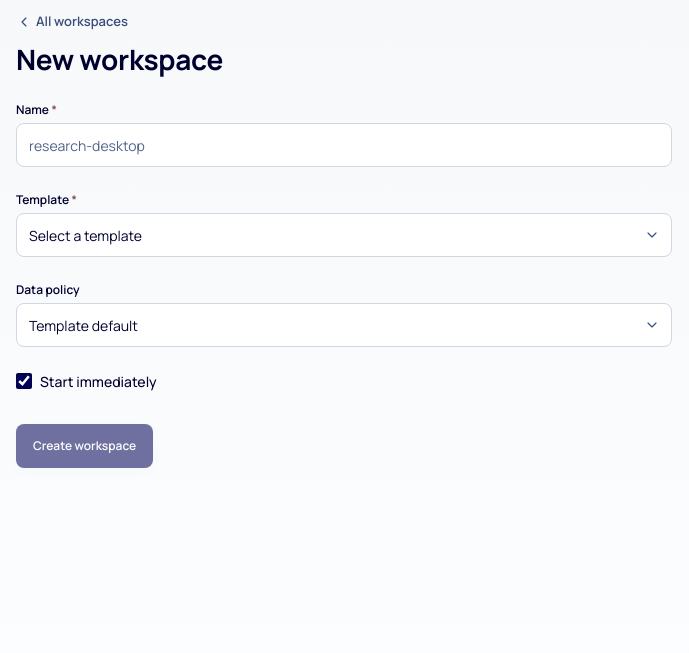
Test: CreateWorkspacePage › create: per-user limit refusal shows the limit copy with params
Type "my-box" into the field labelled "Name *" at (344, 145), box [16,123,672,167]
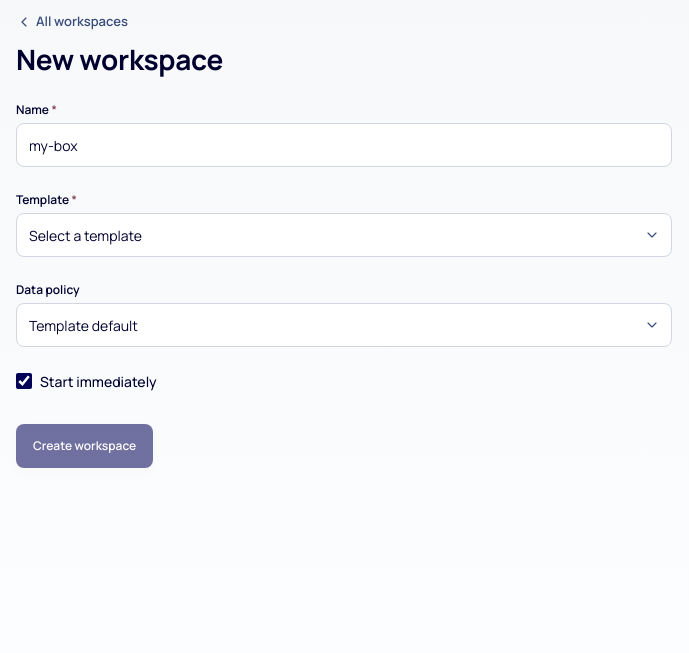
Select "linux-firefox-desktop (rev 7, Linux container)" in the dropdown labelled "Template *" at (344, 235), box [16,213,672,257]
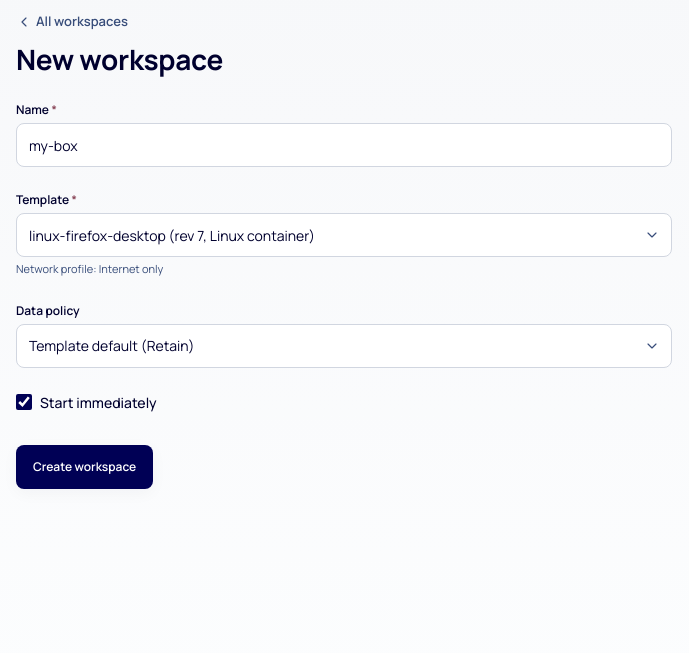
Click the button "Create workspace" at (85, 466), box [16,444,153,488]
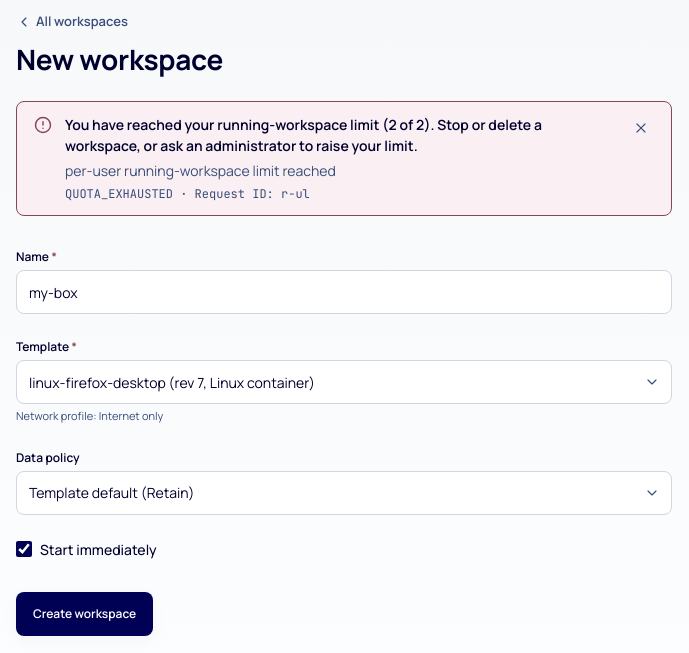
Expected: the message does not show "delete an unused workspace", [16,101,672,216]
Result: the message shows "QUOTA_EXHAUSTED" at [65,186,310,202]
Result: the message shows "You have reached your running-workspace limit (2 of 2)." at [65,115,542,155]
